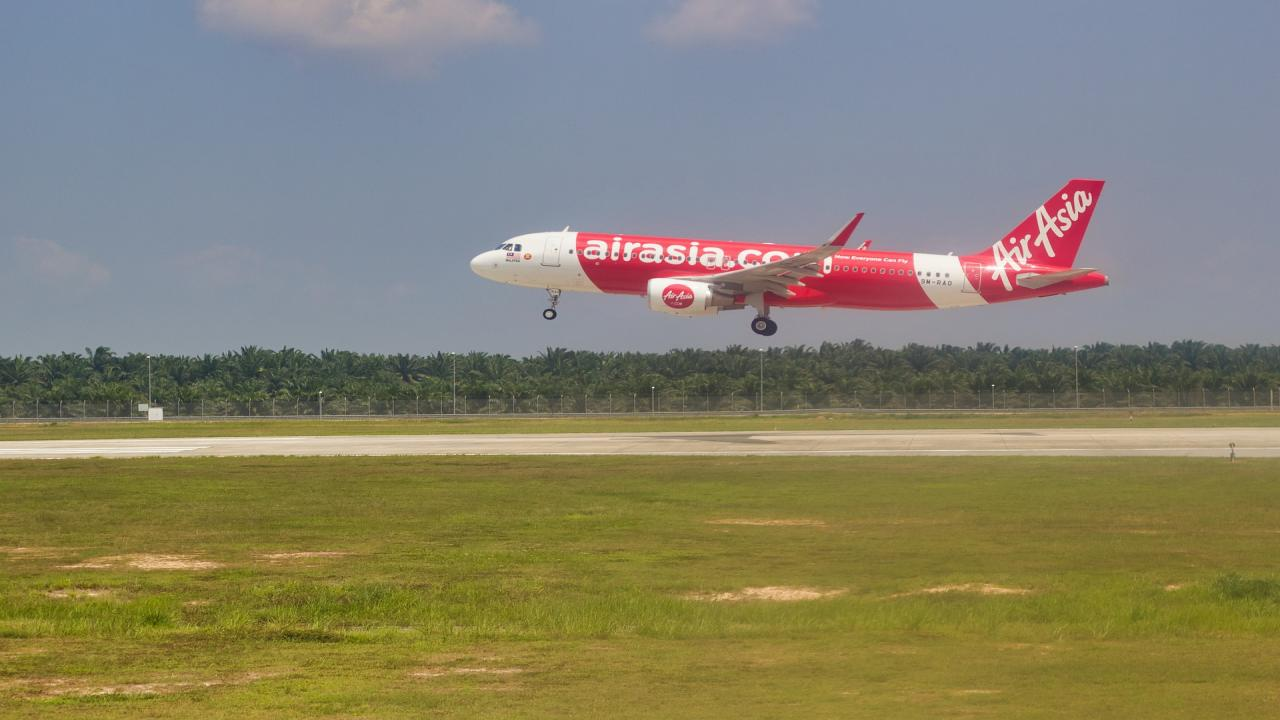Airplane: (461, 168, 1126, 342)
